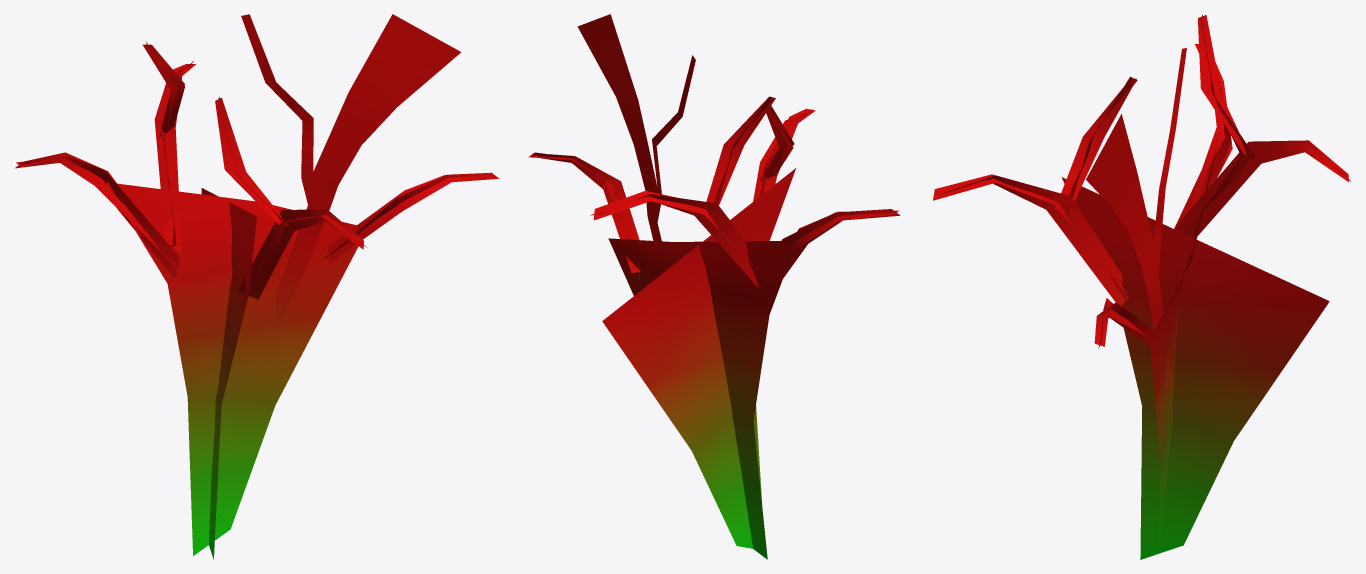
Rendered from Bilberry_LOD0_Var13_vldufeiha.fbx.
3 renders of one model, left to right at view 1: azimuth 30°, elevation 25°; view 2: azimuth 150°, elevation 25°; view 3: azimuth 270°, elevation 25°, orthographic. The views are drawn at different scales.
Parts seen in each view (by area): view 1: _75wc_Var13_LOD0; view 2: _75wc_Var13_LOD0; view 3: _75wc_Var13_LOD0.
Boxes of the visible parts, x1,y1,x2,y2 form: _75wc_Var13_LOD0: (15, 14, 499, 559); _75wc_Var13_LOD0: (528, 14, 900, 559); _75wc_Var13_LOD0: (932, 14, 1350, 559).
Bounding box in the file's own units: 10.78 × 12.22 × 8.68.
